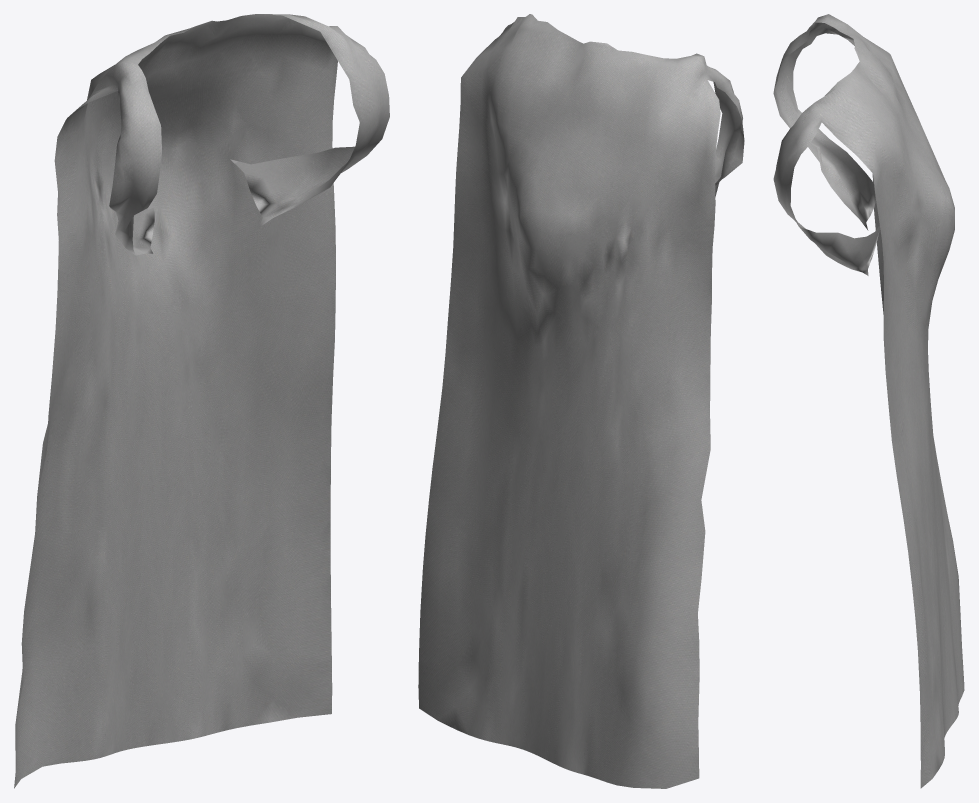
File: rivendell_cape_clo.fbx
3 views of the same model, side by side, from view 1: azimuth 30°, elevation 25°; view 2: azimuth 150°, elevation 25°; view 3: azimuth 270°, elevation 25° (orthographic). The views are drawn at different scales.
Parts seen in each view (by area): view 1: rivendell_cape_clo; view 2: rivendell_cape_clo; view 3: rivendell_cape_clo.
Boxes of the visible parts, <box> form: rivendell_cape_clo: <box>14,14,389,788</box>; rivendell_cape_clo: <box>418,14,744,788</box>; rivendell_cape_clo: <box>773,14,964,788</box>.
Bounding box in the file's own units: 0.5927 × 0.3528 × 1.37.
Materials: 1 (1 with a texture image).
